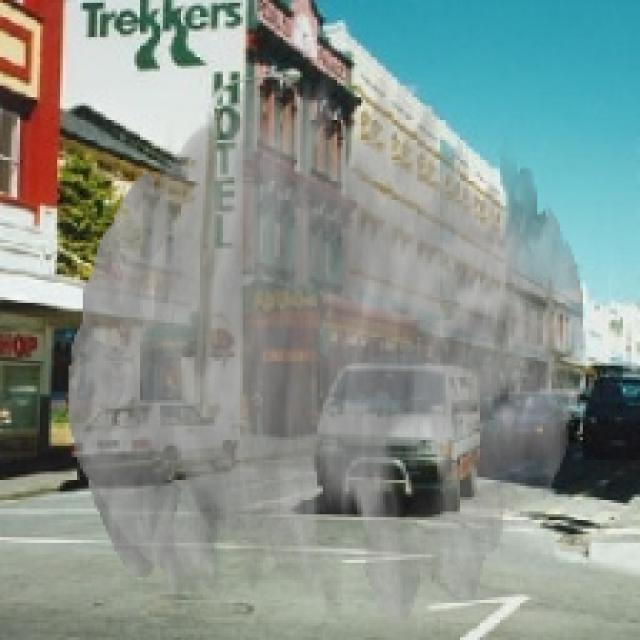Smoke: (69, 71, 586, 623)
